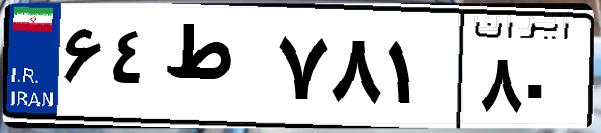0: (525, 38, 570, 115)
1: (385, 28, 445, 110)
4: (110, 28, 158, 98)
6: (57, 26, 110, 100)
7: (270, 28, 330, 110)
8: (330, 28, 385, 110), (475, 38, 525, 113)
ط: (158, 20, 270, 120)
